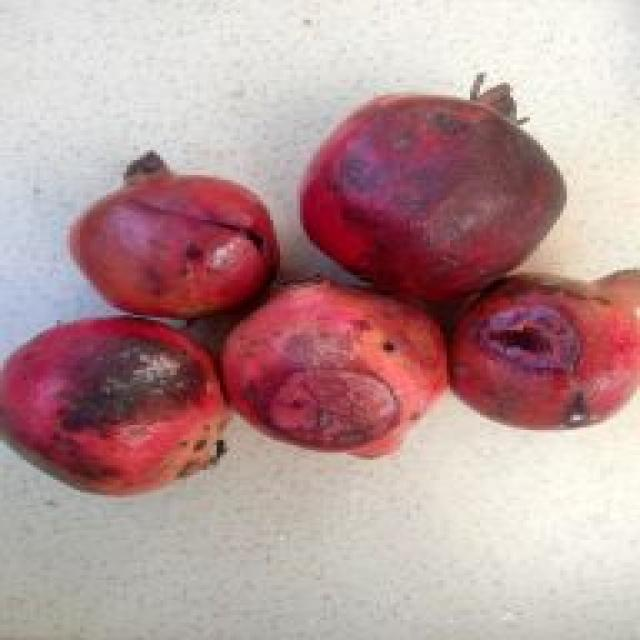Rotten: (0, 315, 230, 497)
